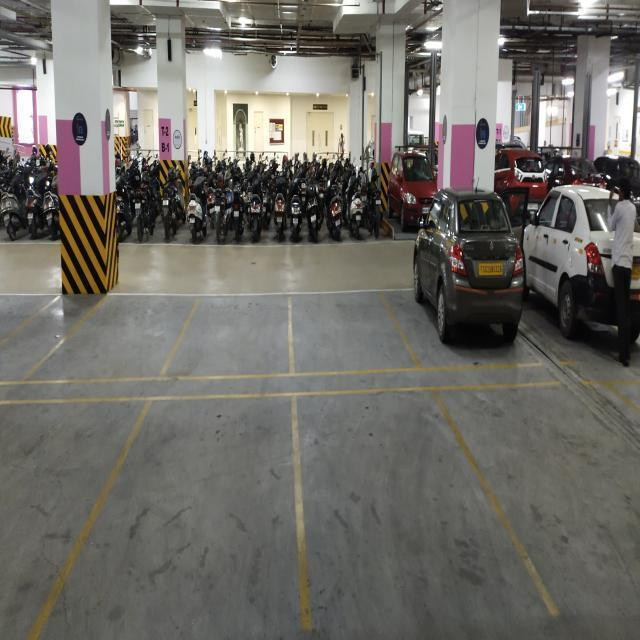space-empty: (289, 381, 561, 628), (31, 402, 309, 640), (437, 375, 640, 640), (7, 400, 98, 595), (189, 298, 286, 385), (86, 290, 158, 390), (290, 305, 397, 371)
